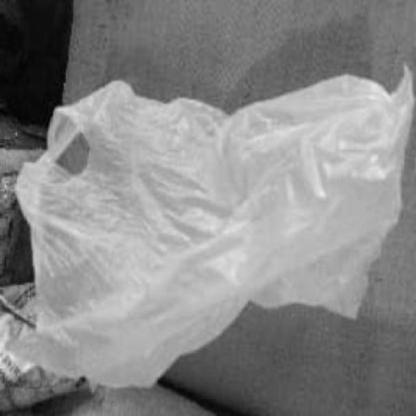objects: (0, 62, 409, 388)
